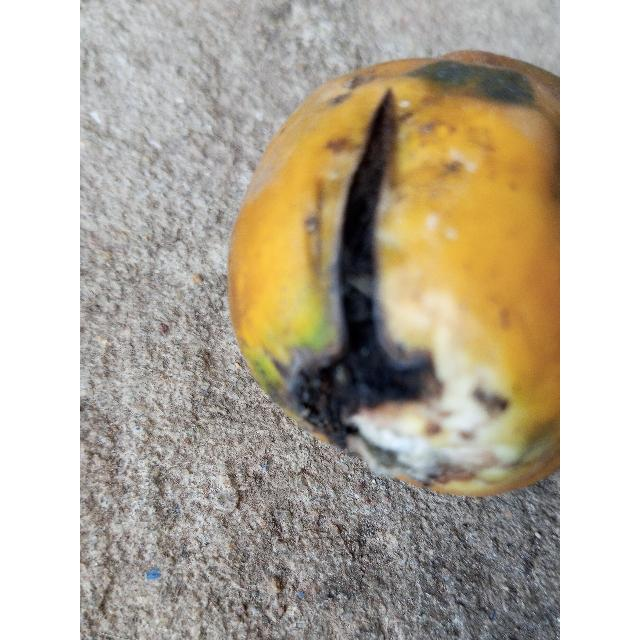damaged: (228, 51, 560, 496)
